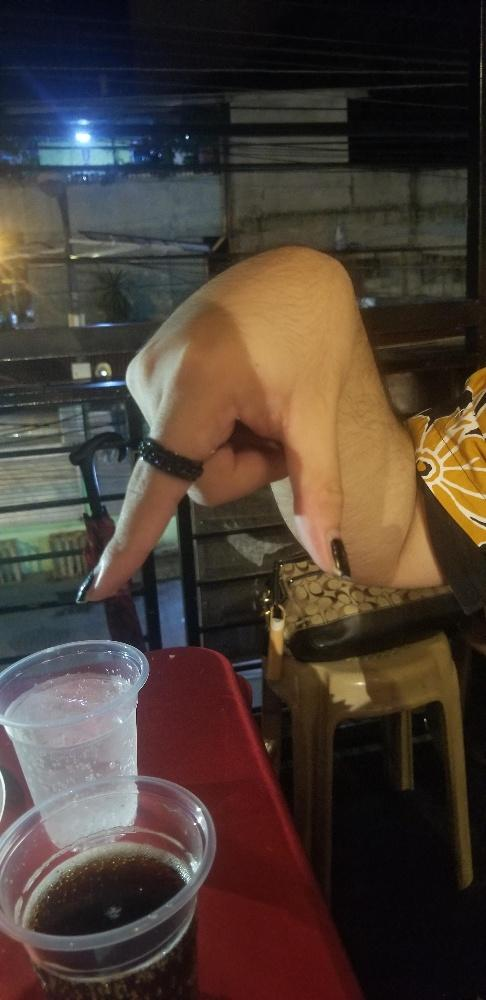q: (69, 236, 358, 607)
